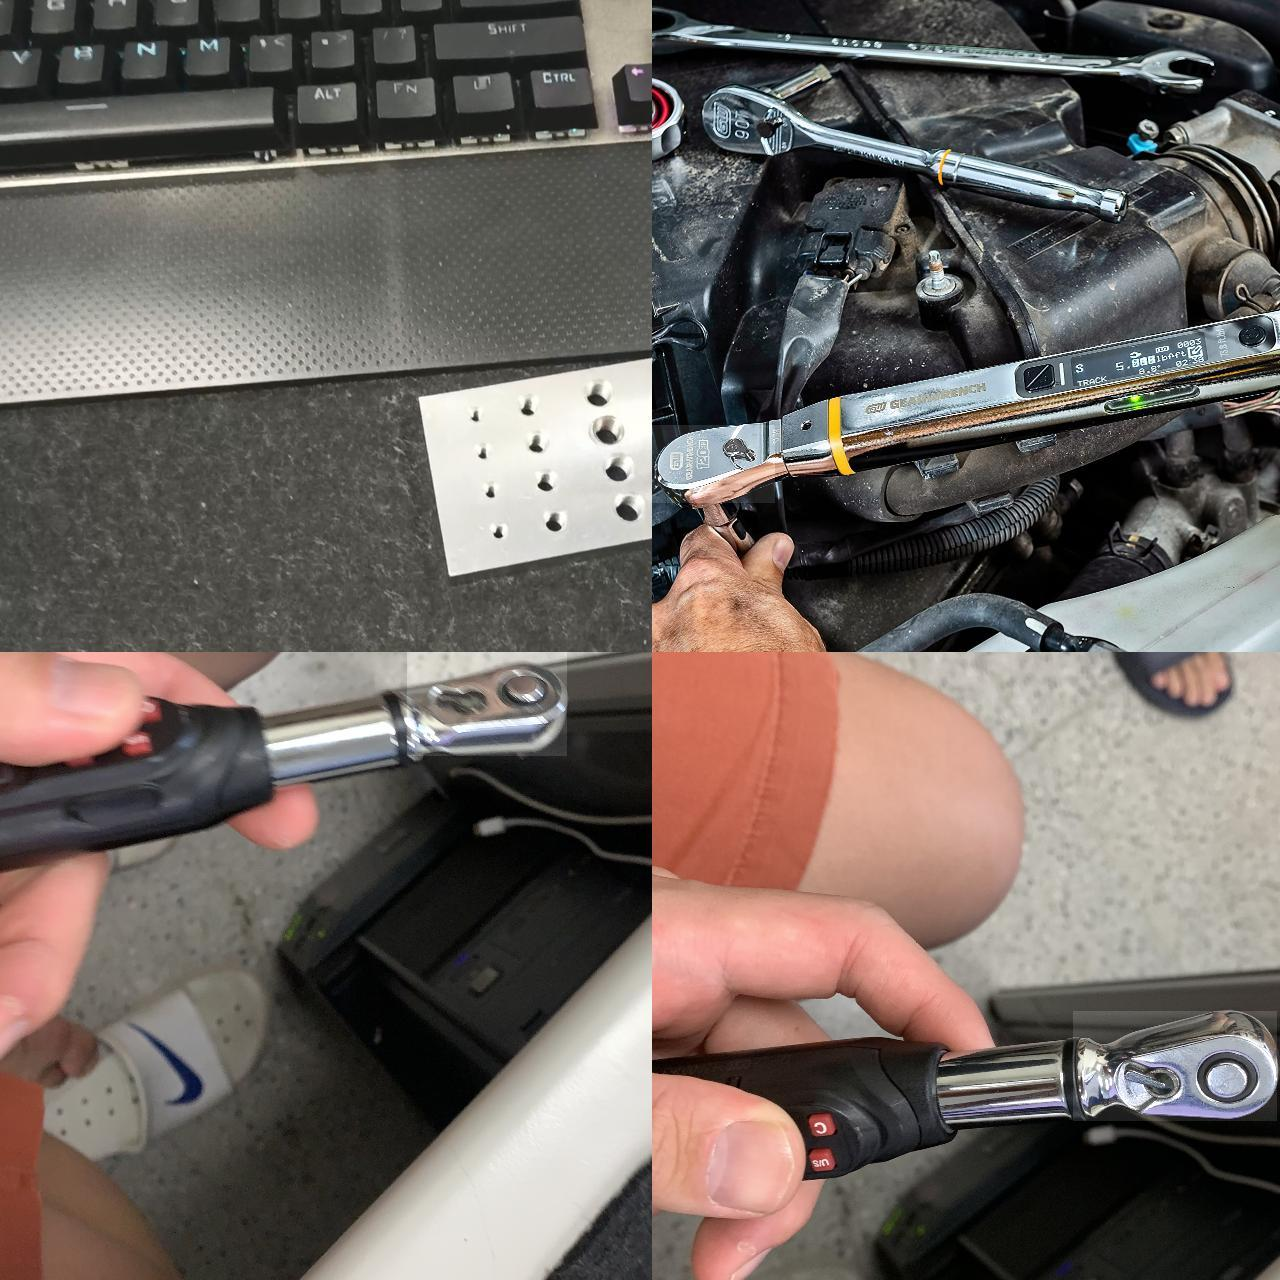Tool: (1073, 1012, 1276, 1121), (407, 652, 567, 756), (652, 425, 775, 503)
